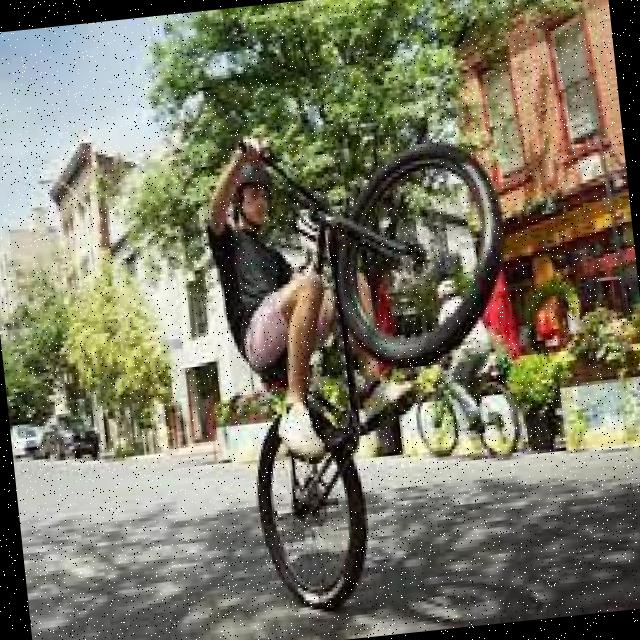Wheeling: (203, 108, 544, 610)
